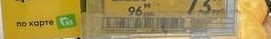1d: (102, 16, 185, 30)
